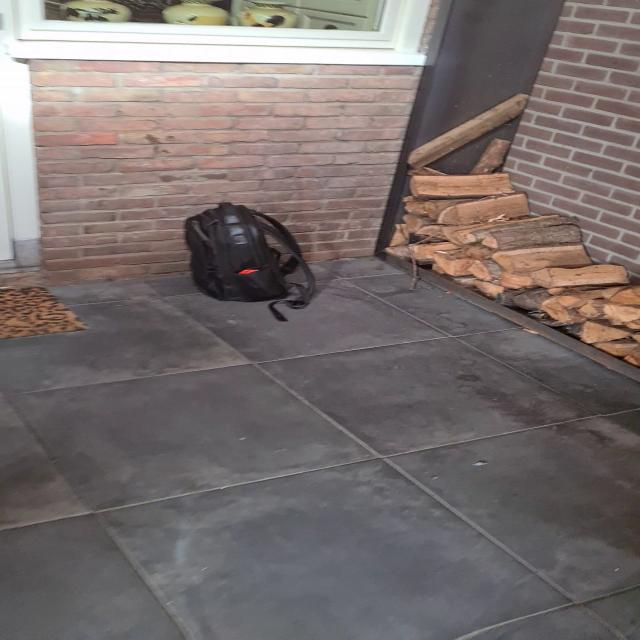backpack: (178, 202, 316, 308)
